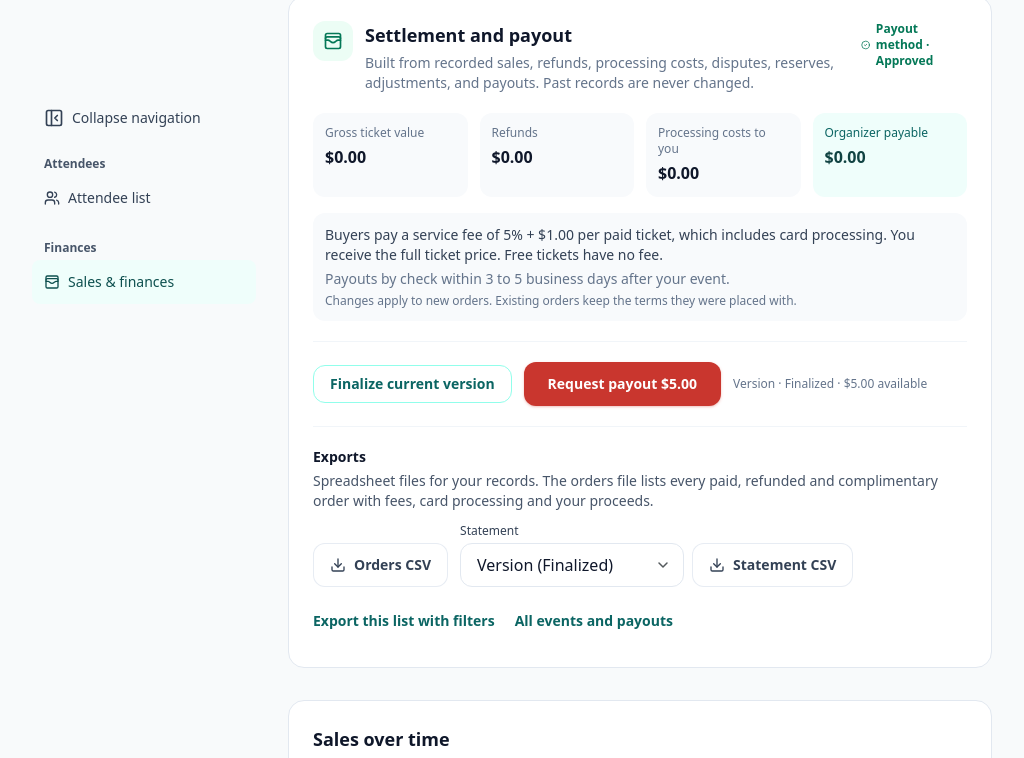
Scenario: authoritative analytics access › withdraws cached finance and buyer data after a current mutation receives 401
(page scrolled)
Click the button "Finalize current version": {"x": 412, "y": 384} [313,365,512,403]
(page scrolled)
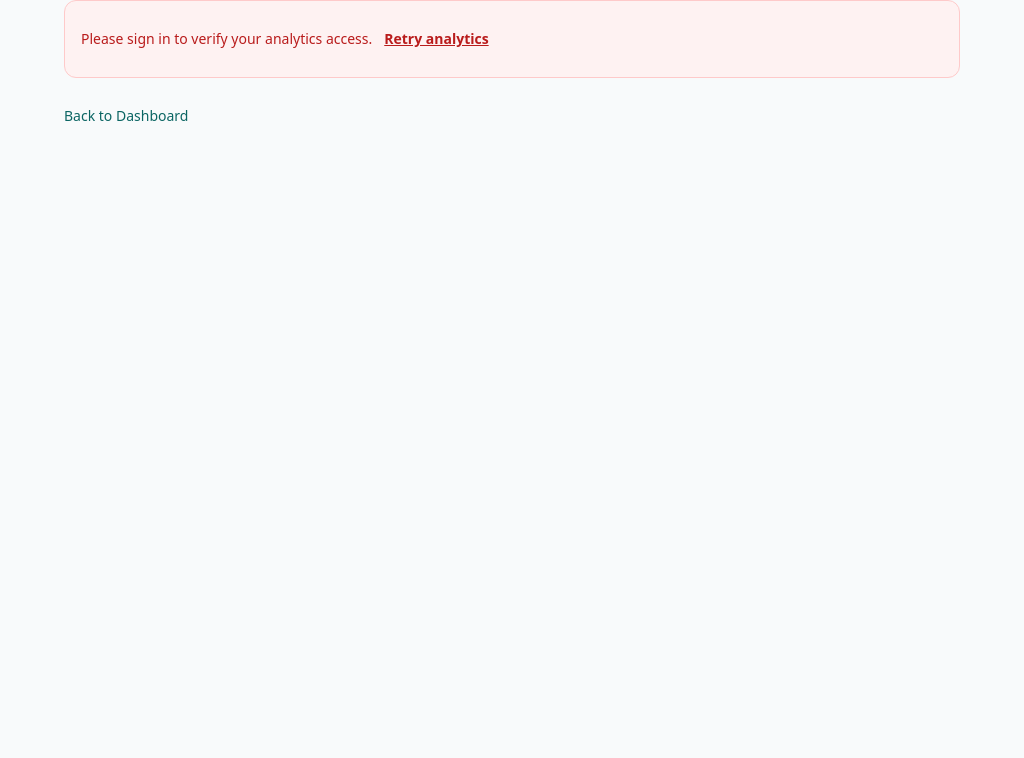
expect the message shows "Please sign in": met, box [81,29,372,48]
expect the button "Request payout " is gone: met
